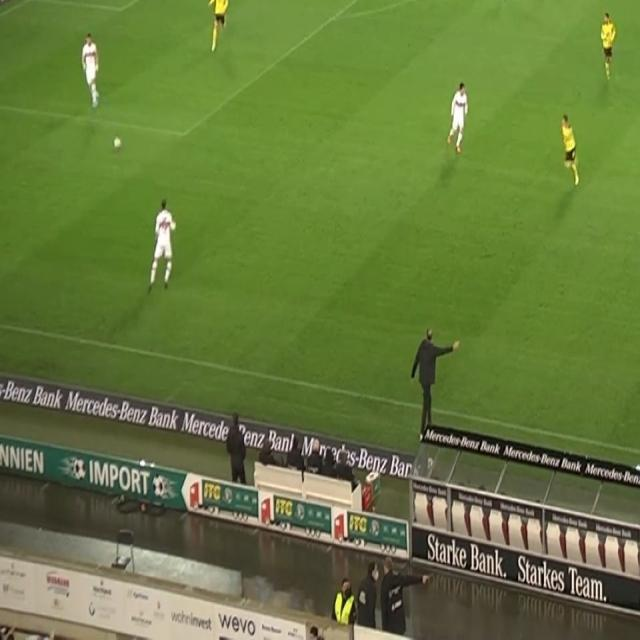ball: (112, 134, 122, 151)
